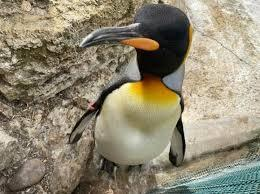king: (56, 0, 200, 188)
